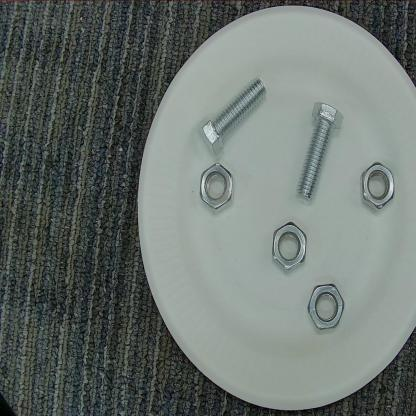FOD: (194, 72, 269, 160), (295, 97, 345, 208), (358, 156, 398, 219), (306, 280, 347, 337), (271, 215, 308, 276), (199, 163, 236, 216)
